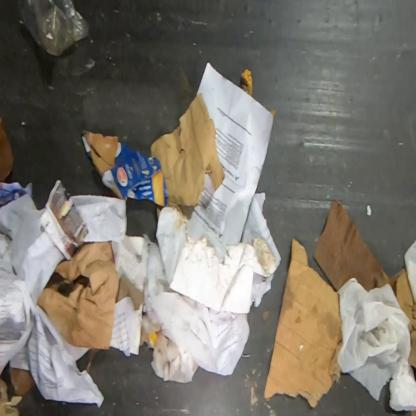cardboard: (150, 92, 277, 314), (263, 237, 343, 408), (312, 200, 396, 299), (80, 128, 169, 207), (392, 266, 415, 387), (0, 114, 15, 184)
rigid_plastic: (16, 0, 90, 57)
